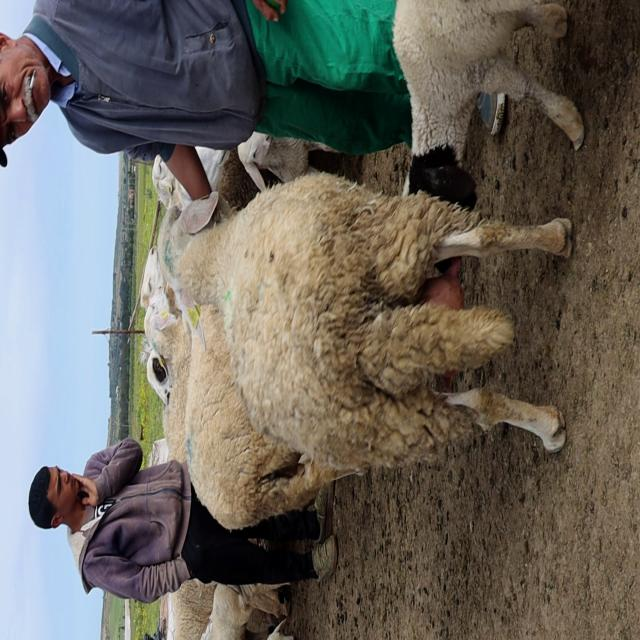Score_2: (159, 173, 572, 471)
